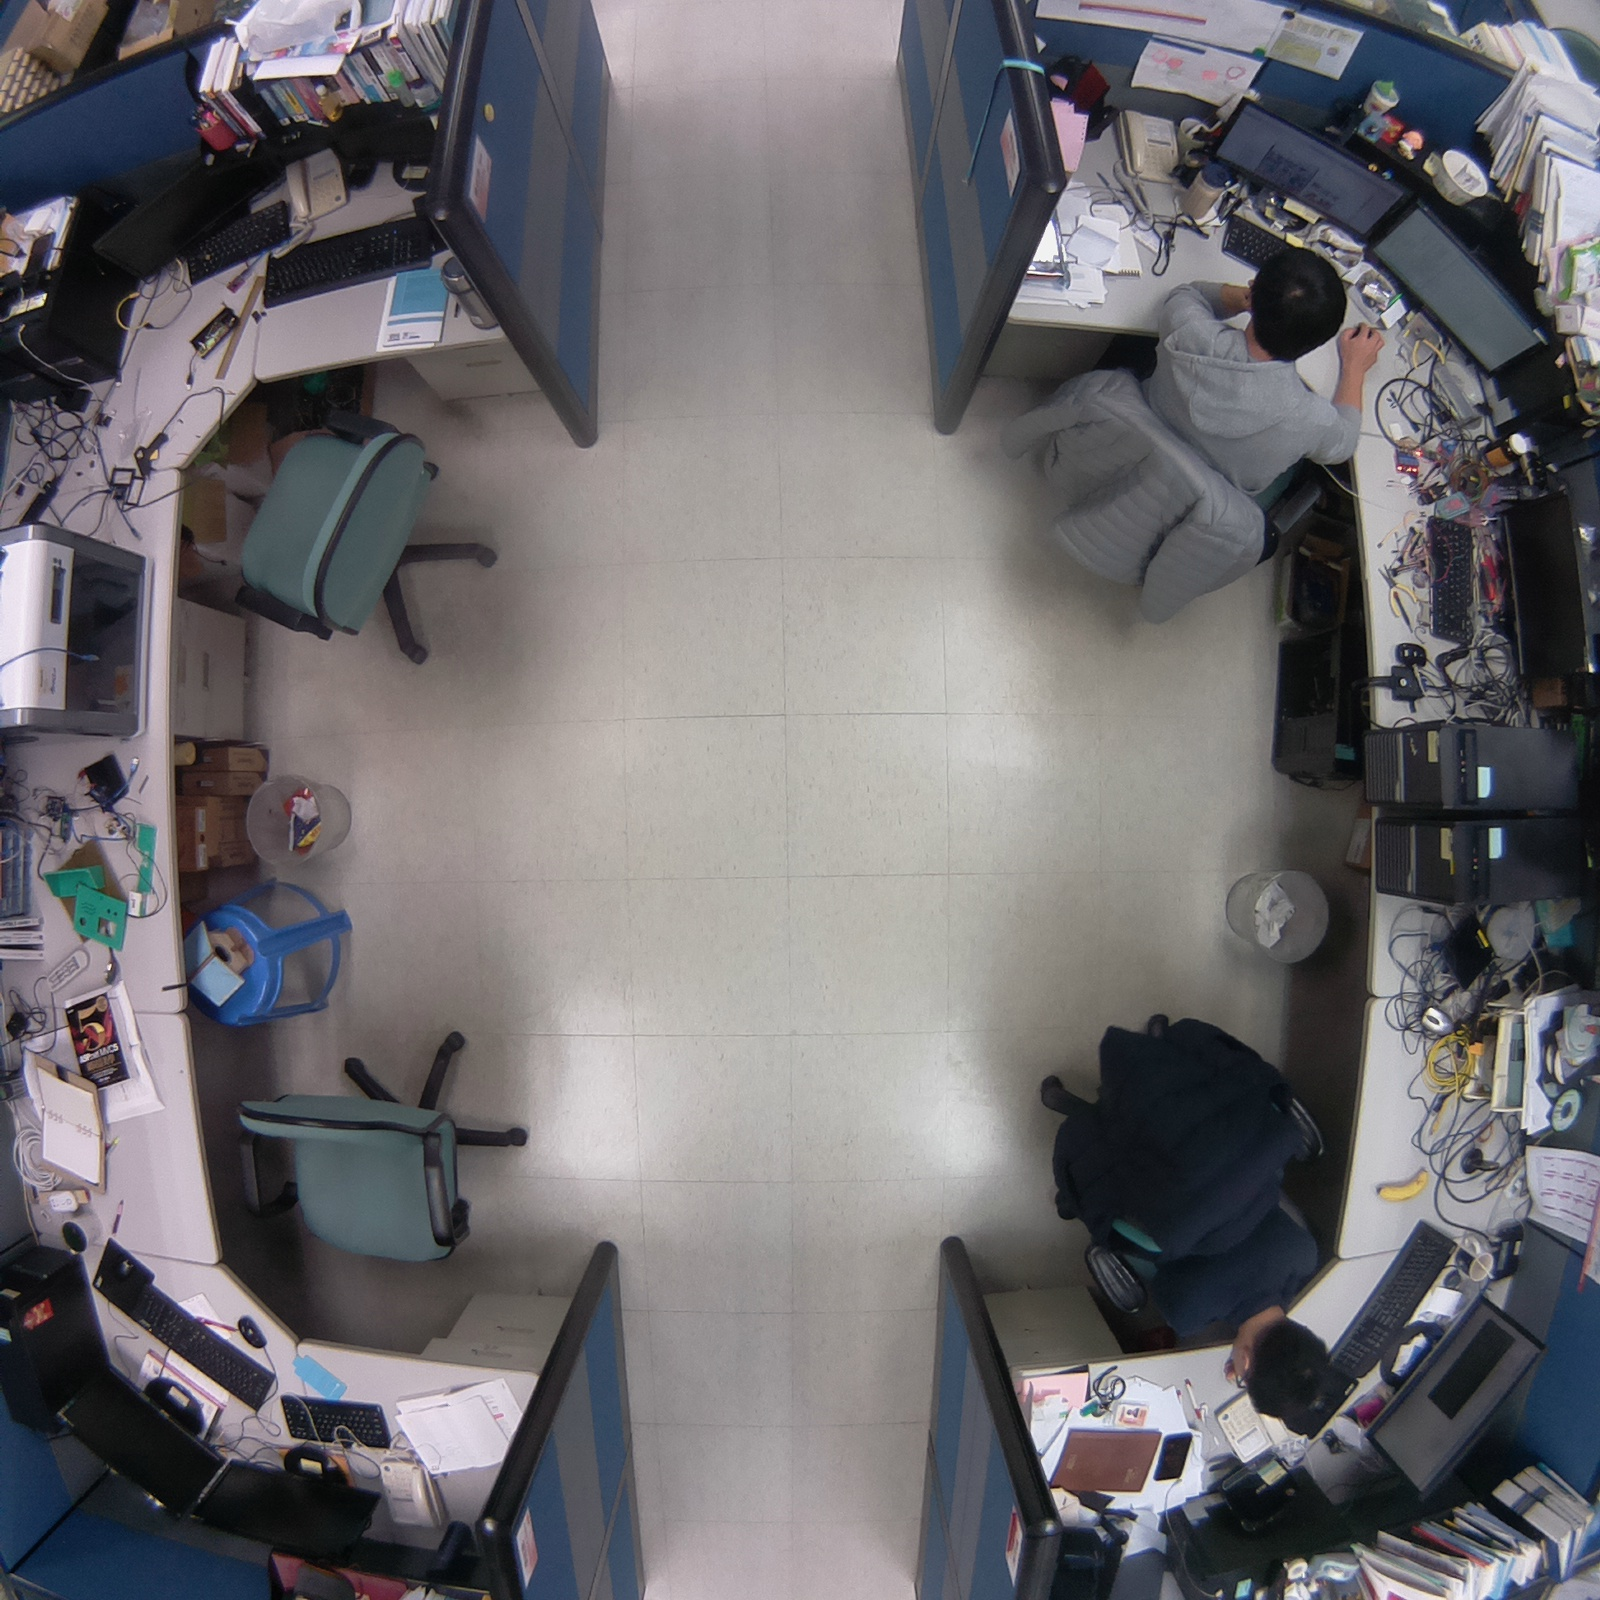chair: (222, 999, 560, 1291), (183, 401, 517, 675)
head: (1232, 1306, 1338, 1431), (1246, 244, 1351, 359)
sitting: (973, 238, 1379, 658), (1022, 1001, 1341, 1435)
